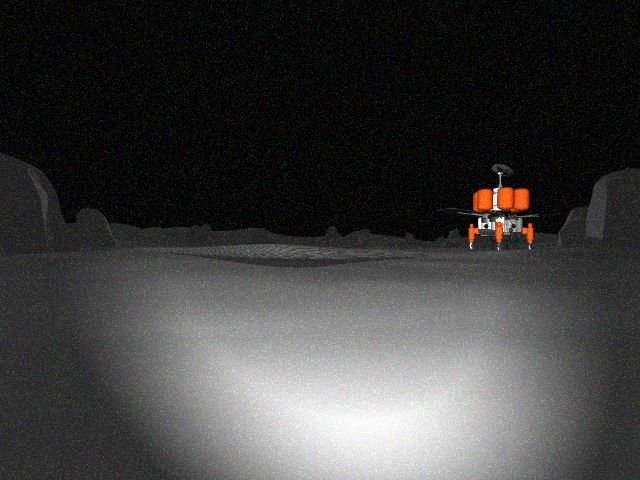homebase: (435, 162, 559, 255)
